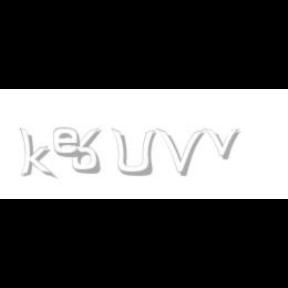6: (72, 128, 100, 176)
U: (110, 128, 156, 178)
V: (157, 128, 205, 176)
e: (54, 128, 86, 158)
k: (19, 128, 57, 180)
v: (204, 128, 244, 160)
